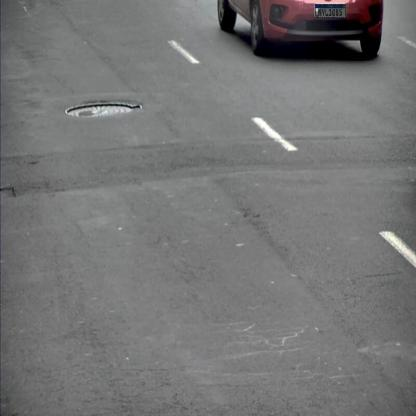PlacaM: (315, 4, 346, 18)
